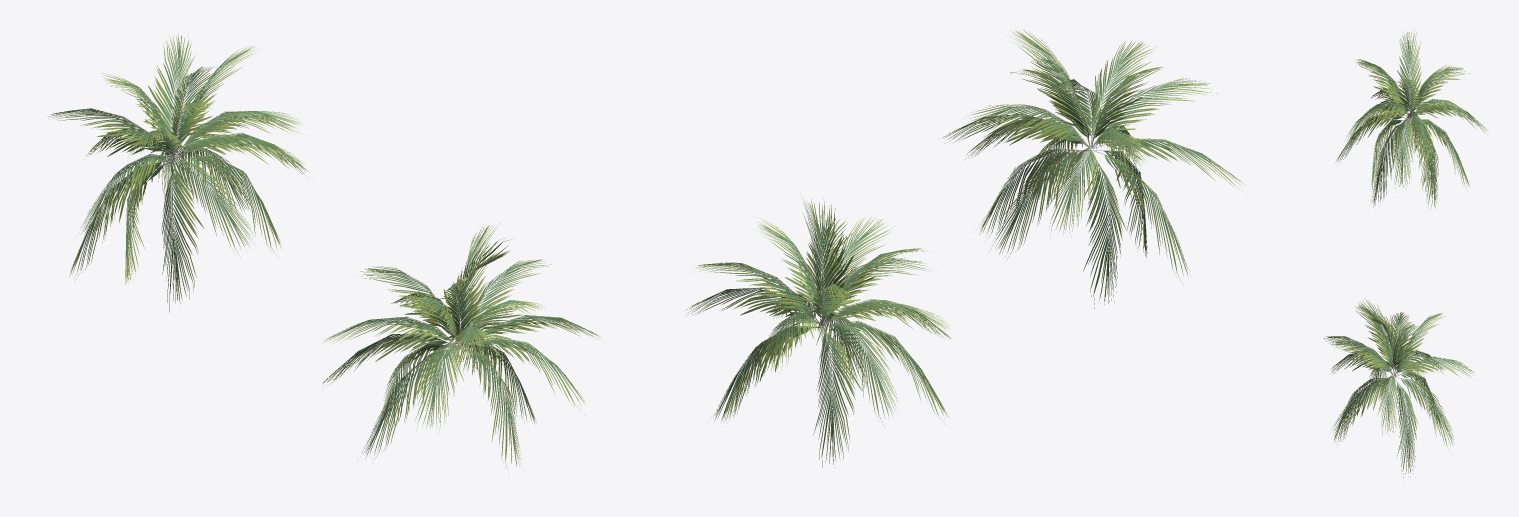
Rendered from m_palm_p2_19_leaf_0_lev2.glb.
3 renders of one model, left to right at view 1: azimuth 30°, elevation 25°; view 2: azimuth 150°, elevation 25°; view 3: azimuth 270°, elevation 25°, orthographic. The views are drawn at different scales.
Visible parts, largest first — view 1: m_palm_p2_19_leaf_0_lev2; view 2: m_palm_p2_19_leaf_0_lev2; view 3: m_palm_p2_19_leaf_0_lev2.
Boxes of the visible parts, x1=… form: m_palm_p2_19_leaf_0_lev2: x1=49, y1=34, x2=601, y2=469; m_palm_p2_19_leaf_0_lev2: x1=686, y1=26, x2=1243, y2=467; m_palm_p2_19_leaf_0_lev2: x1=1323, y1=27, x2=1488, y2=480.
Bounding box in the file's own units: 7.49 × 6 × 3.29.
Materials: 1 (1 with a texture image).
